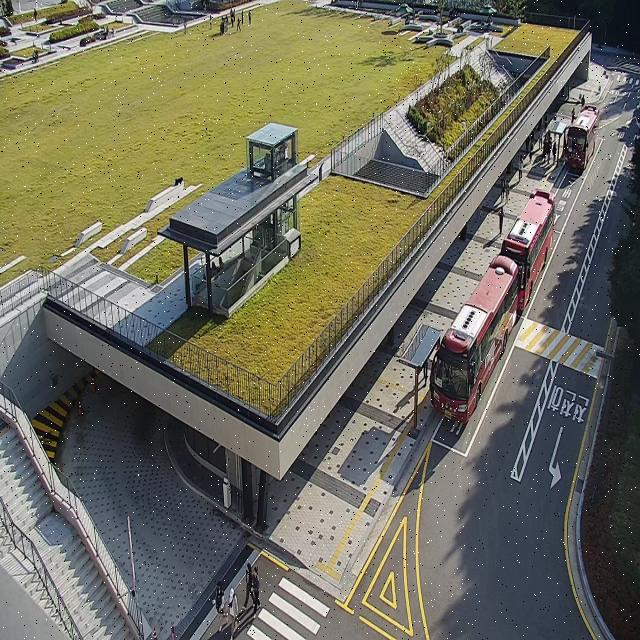queue: (413, 330, 440, 432)
